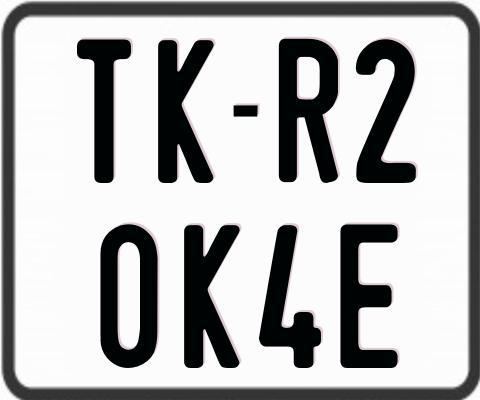0: (98, 222, 162, 371)
2: (355, 39, 421, 188)
4: (256, 224, 324, 367)
E: (339, 224, 397, 372)
K: (157, 40, 216, 188), (184, 225, 242, 373)
R: (279, 37, 340, 182)
T: (74, 38, 133, 183)
